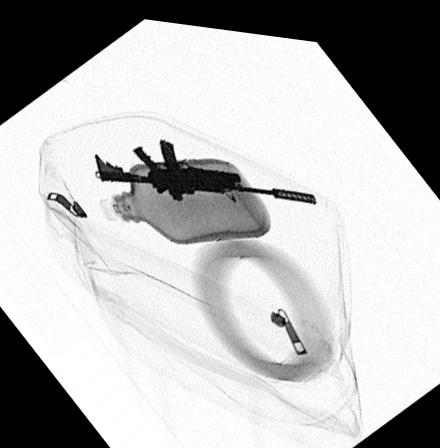Gun: (93, 131, 317, 196)
